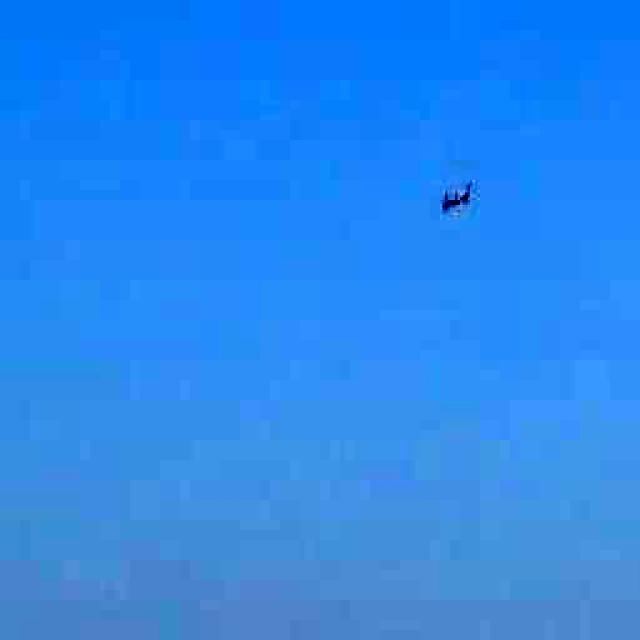bird: (415, 170, 490, 238)
